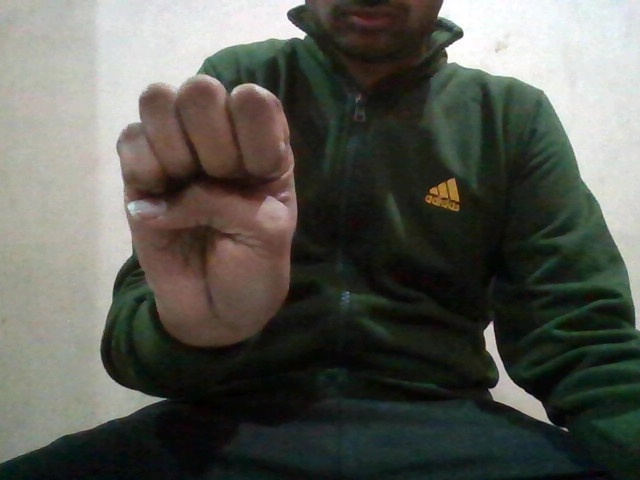E: (113, 73, 292, 333)
